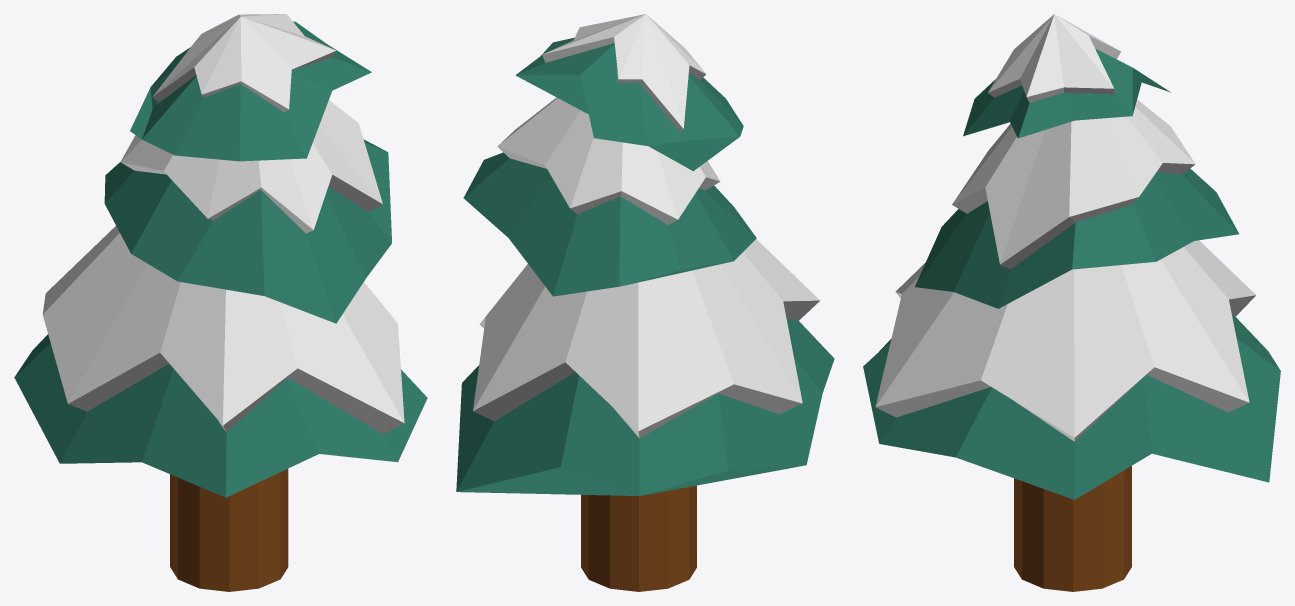
Rendered from snow_level_pine_middlefbx.fbx.
3 renders of one model, left to right at view 1: azimuth 30°, elevation 25°; view 2: azimuth 150°, elevation 25°; view 3: azimuth 270°, elevation 25°, orthographic.
Visible parts, largest first — view 1: Plane.038; view 2: Plane.038; view 3: Plane.038.
Part boxes in pixels (bbox=[...]): Plane.038: bbox=[14, 14, 427, 591]; Plane.038: bbox=[456, 14, 834, 591]; Plane.038: bbox=[863, 14, 1280, 591].
Bounding box in the file's own units: 266 × 420 × 287.
